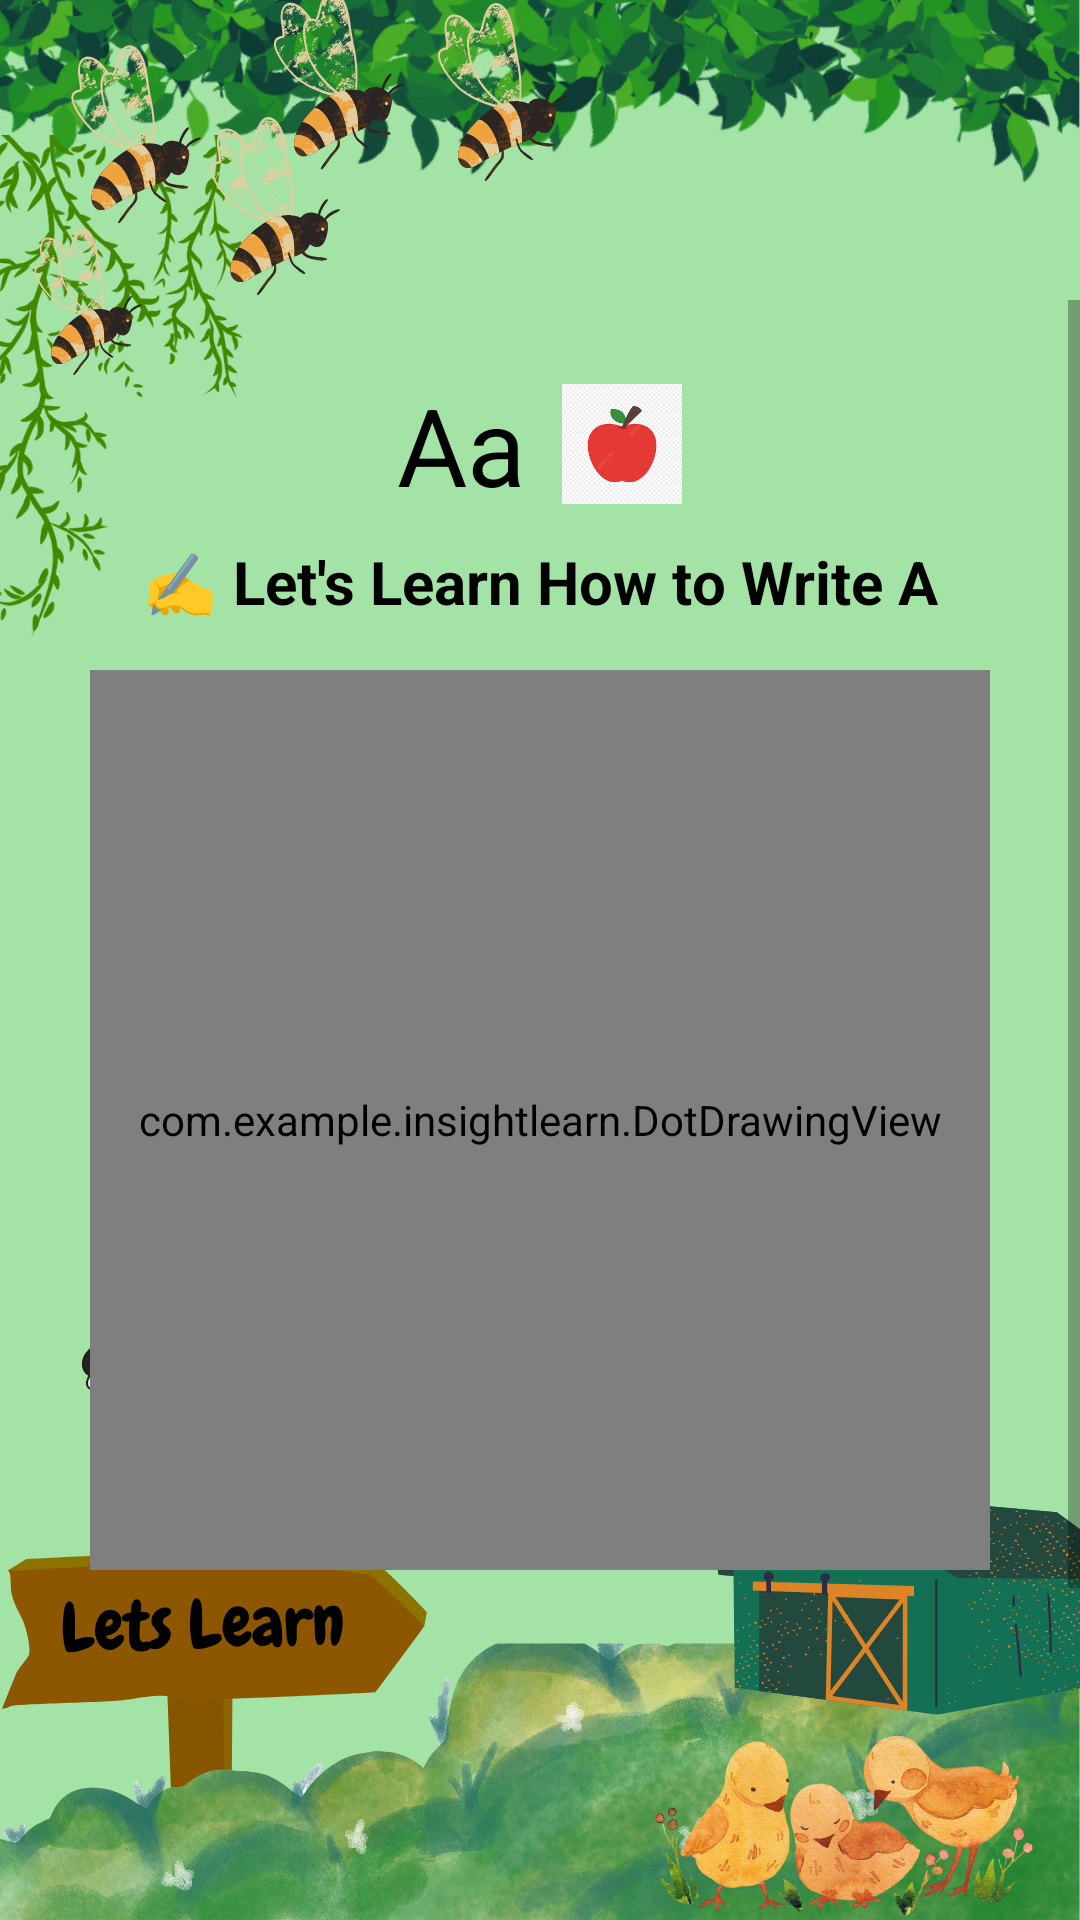

Icon bounding boxes for this 1080 x 1920 phone screenshot, format (x1, y1, x2, y2):
Apple: (562, 384, 682, 504)
